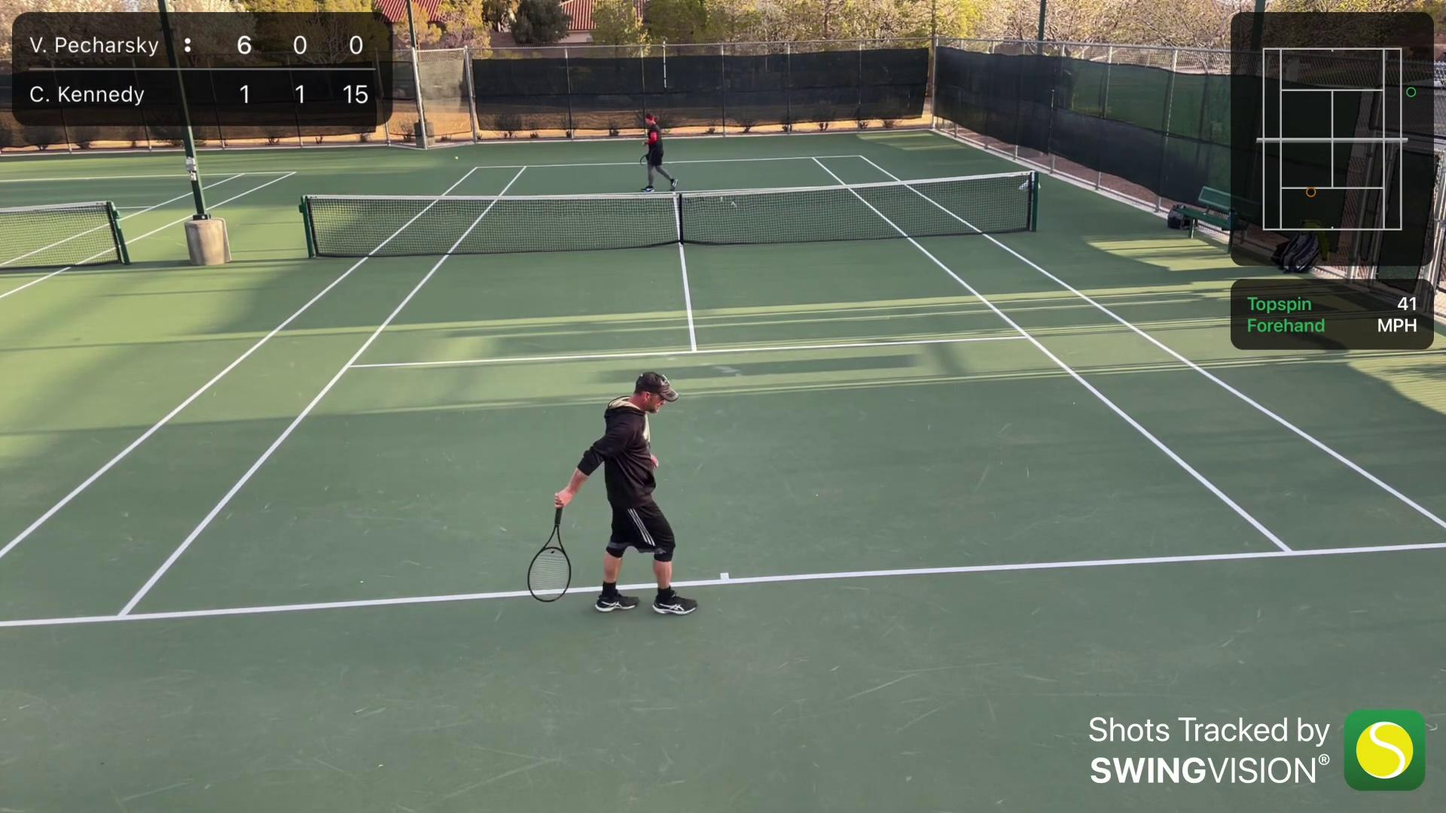ball: (453, 155, 459, 160)
